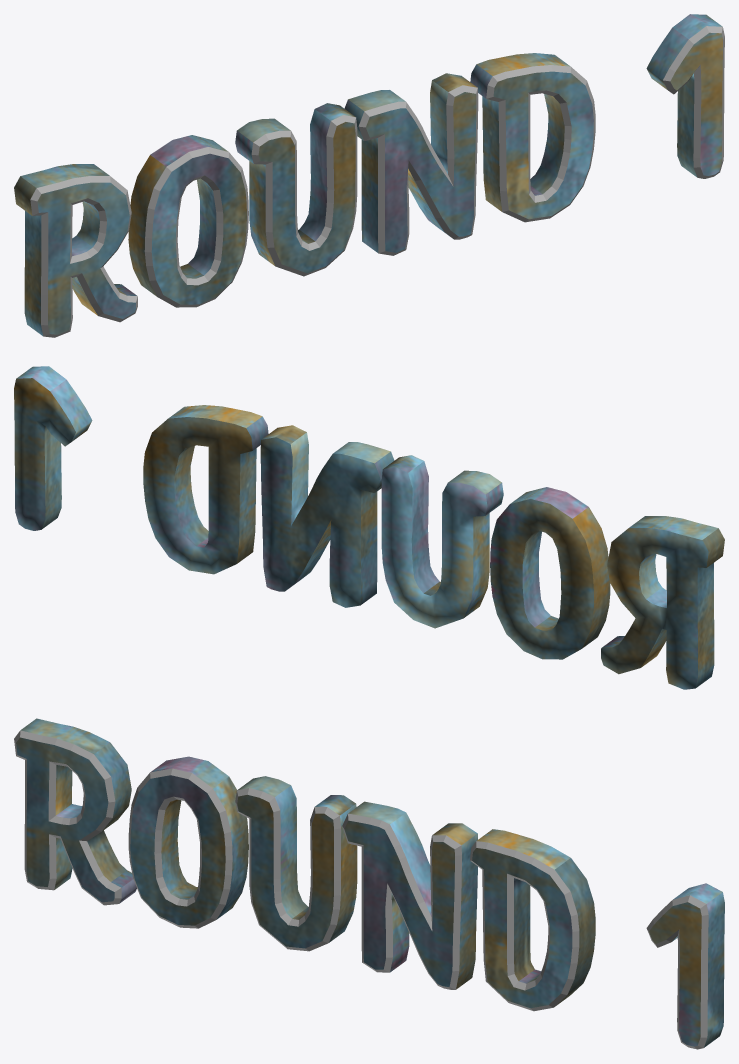
The model's file is Str_Sign_R1_Banner_Art.fbx.
3 renders of one model, top to bottom at view 1: azimuth 30°, elevation 25°; view 2: azimuth 150°, elevation 25°; view 3: azimuth 330°, elevation 25°, orthographic.
Parts seen in each view (by area): view 1: Str_Sign_R1_Banner; view 2: Str_Sign_R1_Banner; view 3: Str_Sign_R1_Banner.
Part boxes in pixels (x1,y1,x2,y2): Str_Sign_R1_Banner: (14,14,724,337); Str_Sign_R1_Banner: (14,366,724,689); Str_Sign_R1_Banner: (14,718,724,1049).
Bounding box in the file's own units: 850 × 187 × 40.02.
